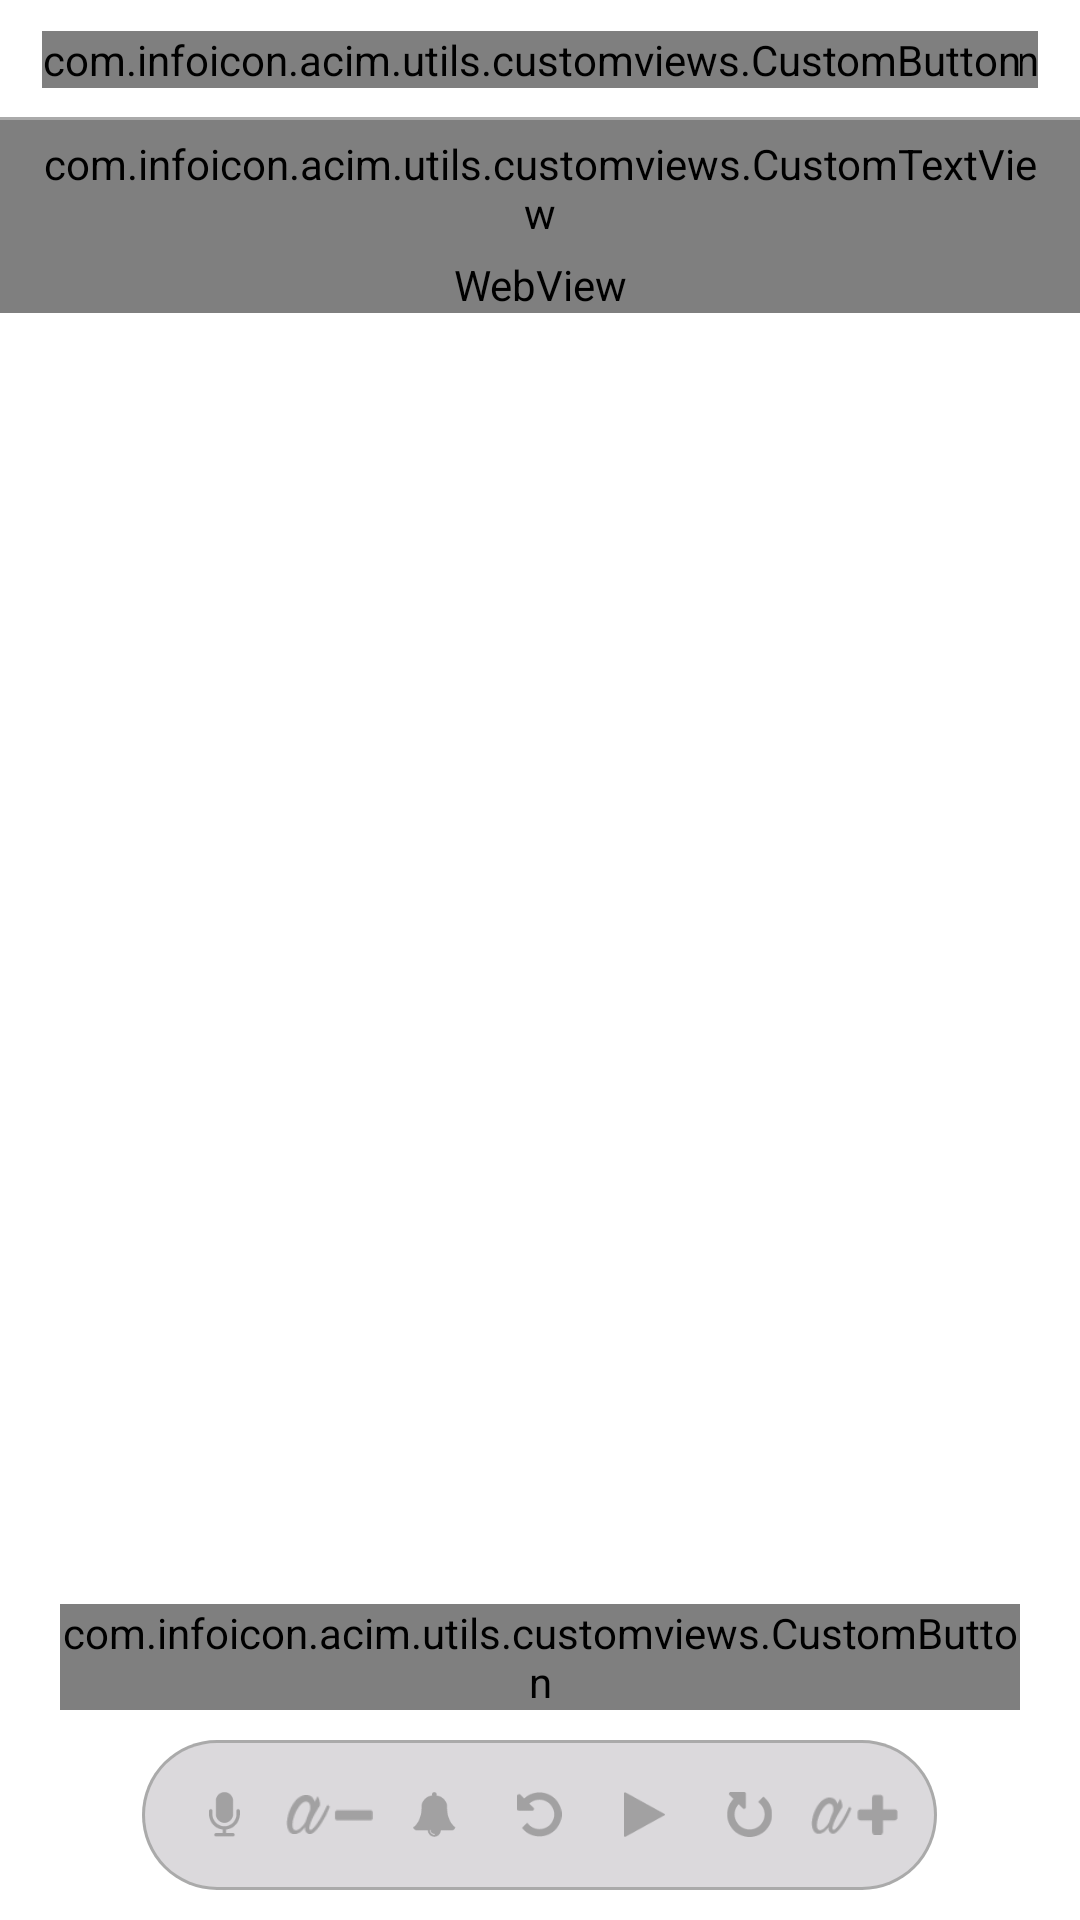

Where to tap for icons on this 1080*1920 app screen, as (x=x, y=y):
backward: (x=539, y=1814)
decrease: (x=330, y=1814)
forward: (x=749, y=1814)
increase: (x=855, y=1815)
mike: (x=224, y=1814)
play: (x=644, y=1814)
reminder: (x=434, y=1814)
